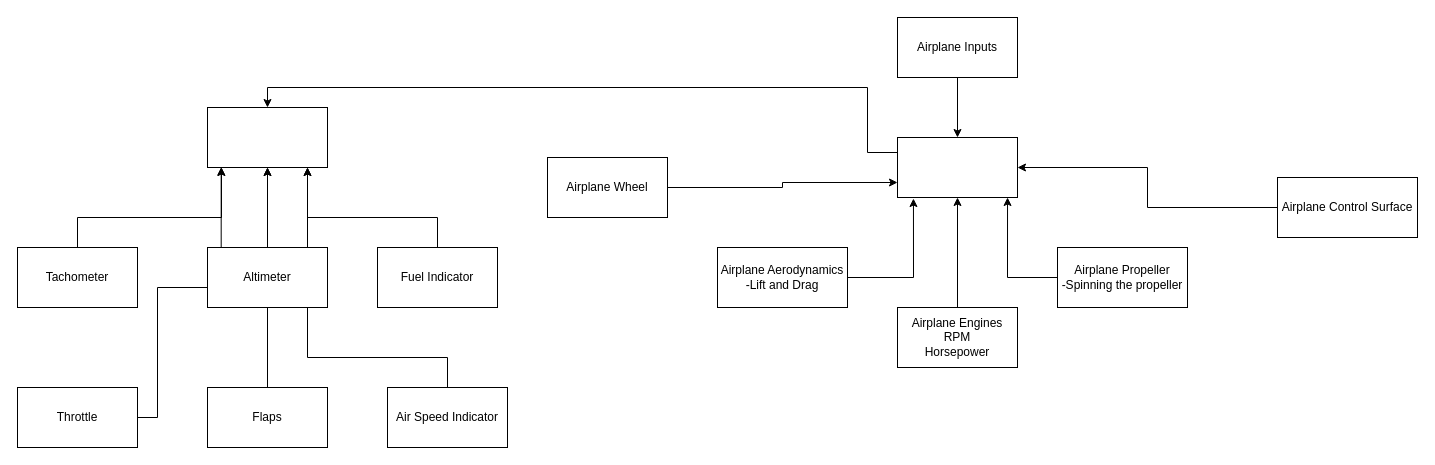
Some shapes in this 1435 by 465 pixel diagram are drawn without their labels. The centre of each missing label's shape, as x and y in pixels:
Airplane Controller -Global controller: [957,167]
Airplane UI: [267,137]
